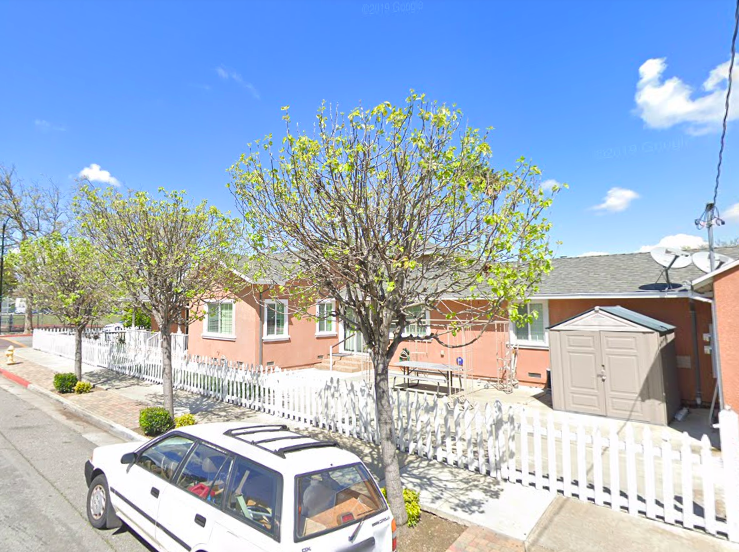tree: (223, 85, 569, 529)
